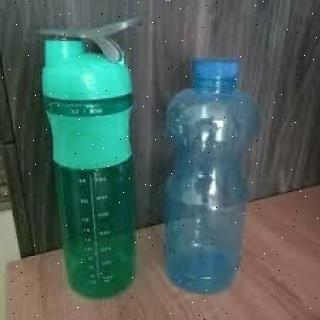Plastic-bottle: (162, 52, 261, 298)
